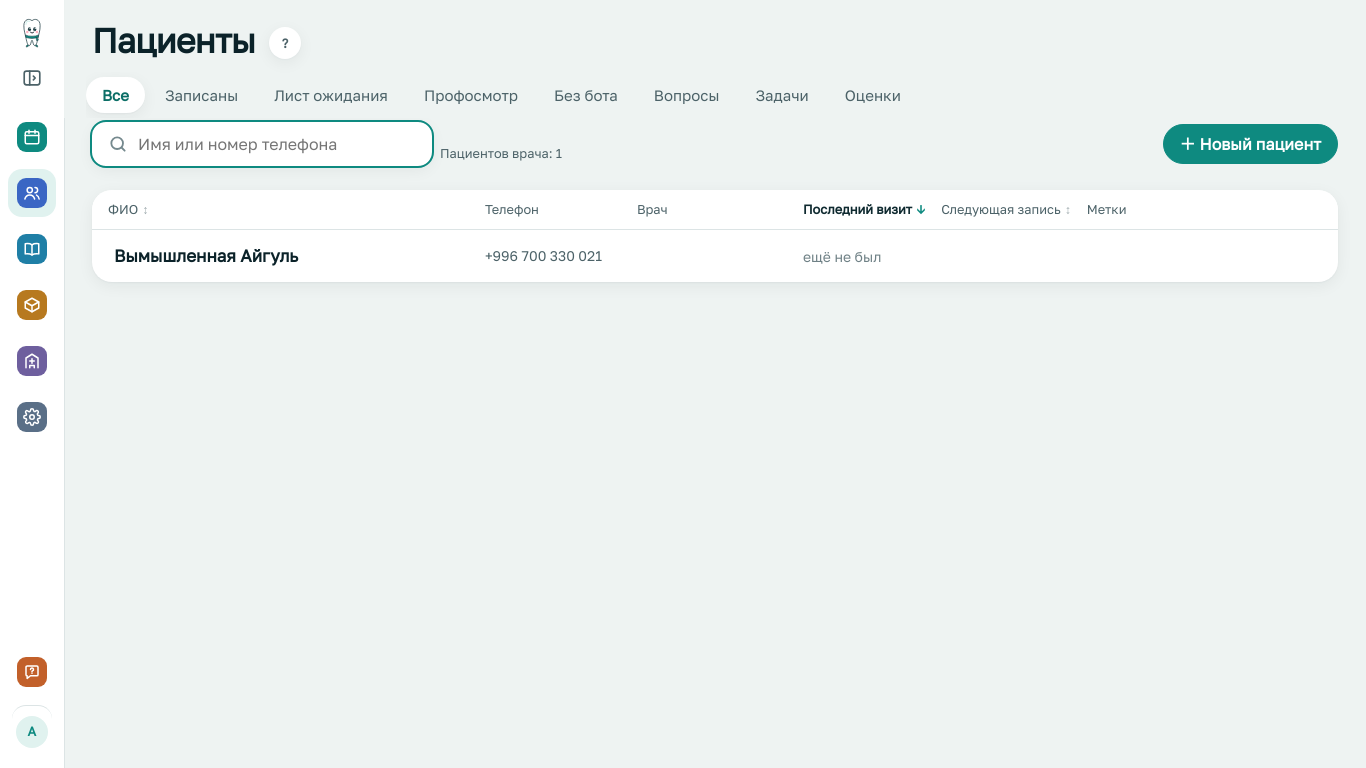
it: ассистент: аванс не запрашивается и не виден
This screenshot has width=1366, height=768.
Click the button "Вымышленная Айгуль" at x=206, y=256, box [114,243,298,269]
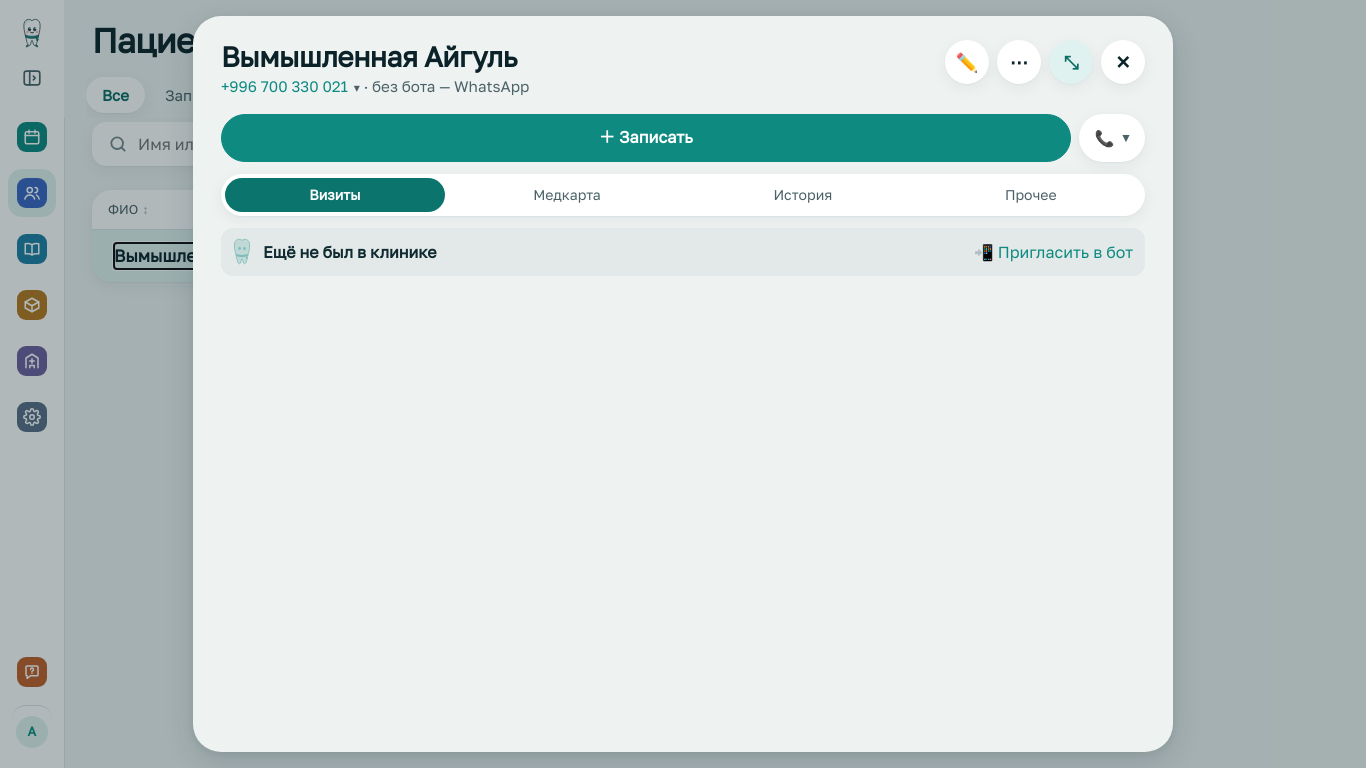
Expected: the tab "Визиты" is shown, [225,178,445,212]
